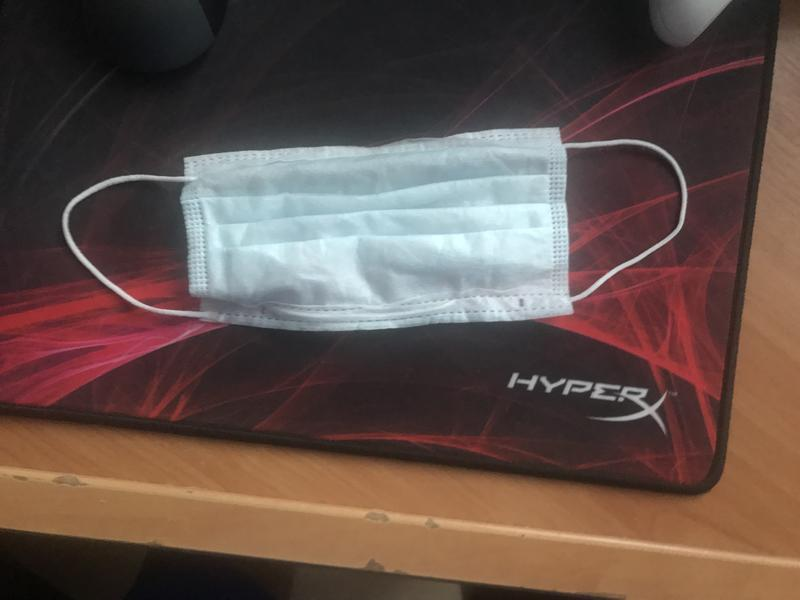medical_mask: (61, 127, 687, 328)
